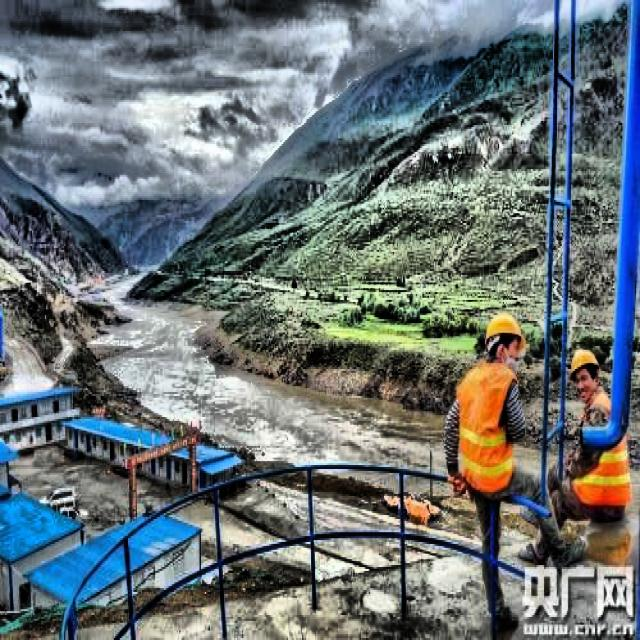helmet: (480, 307, 526, 371), (570, 344, 602, 411)
